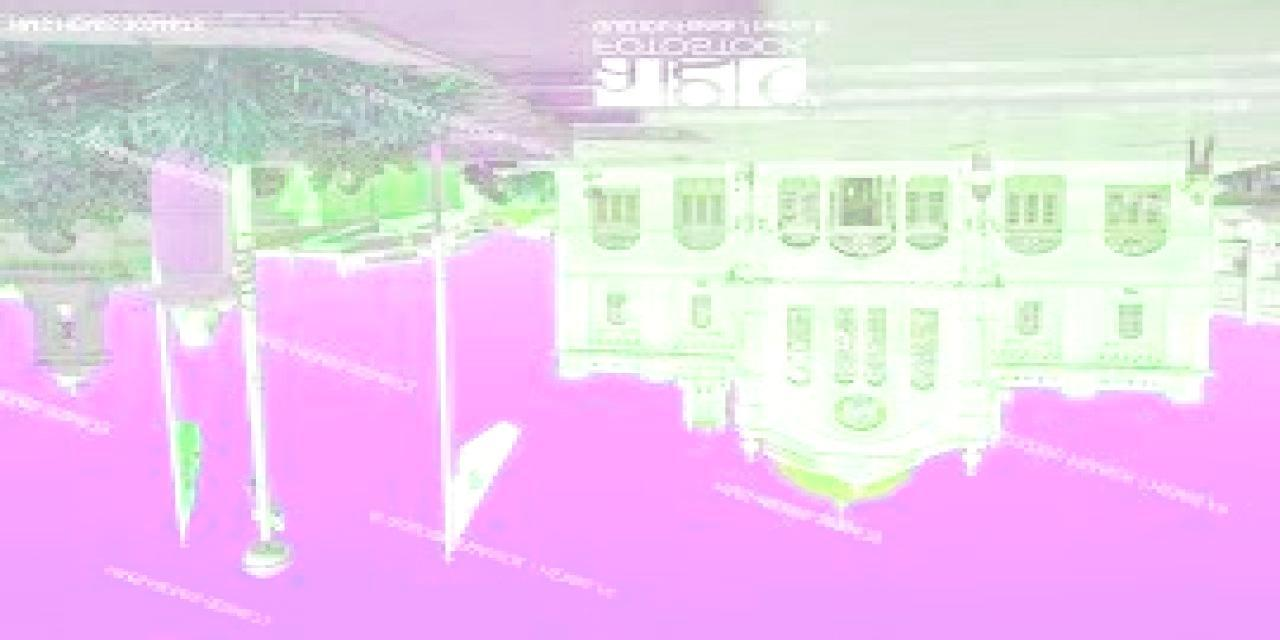Agios Minas: (554, 159, 1226, 521)
